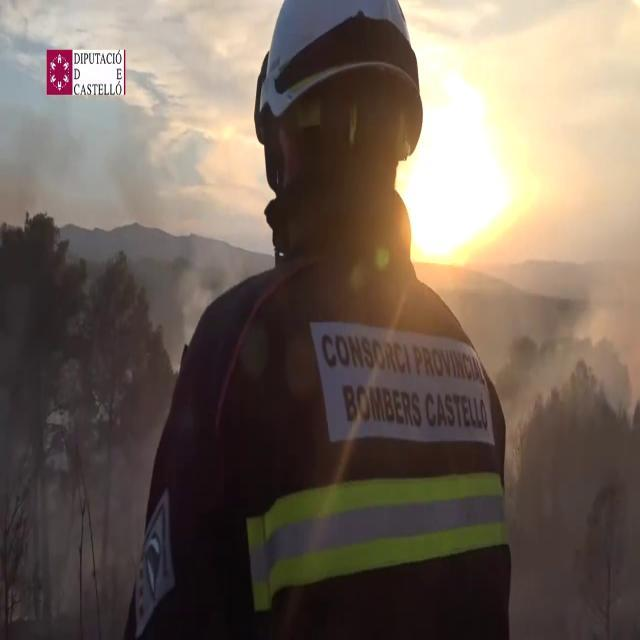Fire: (387, 8, 539, 266)
